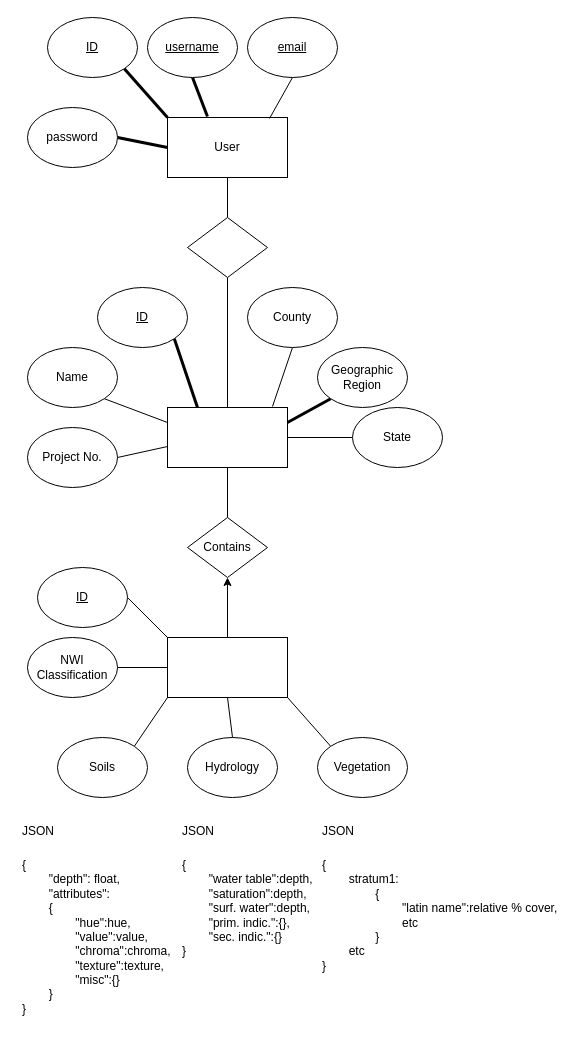
The diagram is 584 pixels wide and 1045 high, and some of its shapes have lost their labels. The centre of each missing label's shape, as x and y in pixels:
Authors: [227,247]
Datapoint: [227,667]
Project: [227,437]
